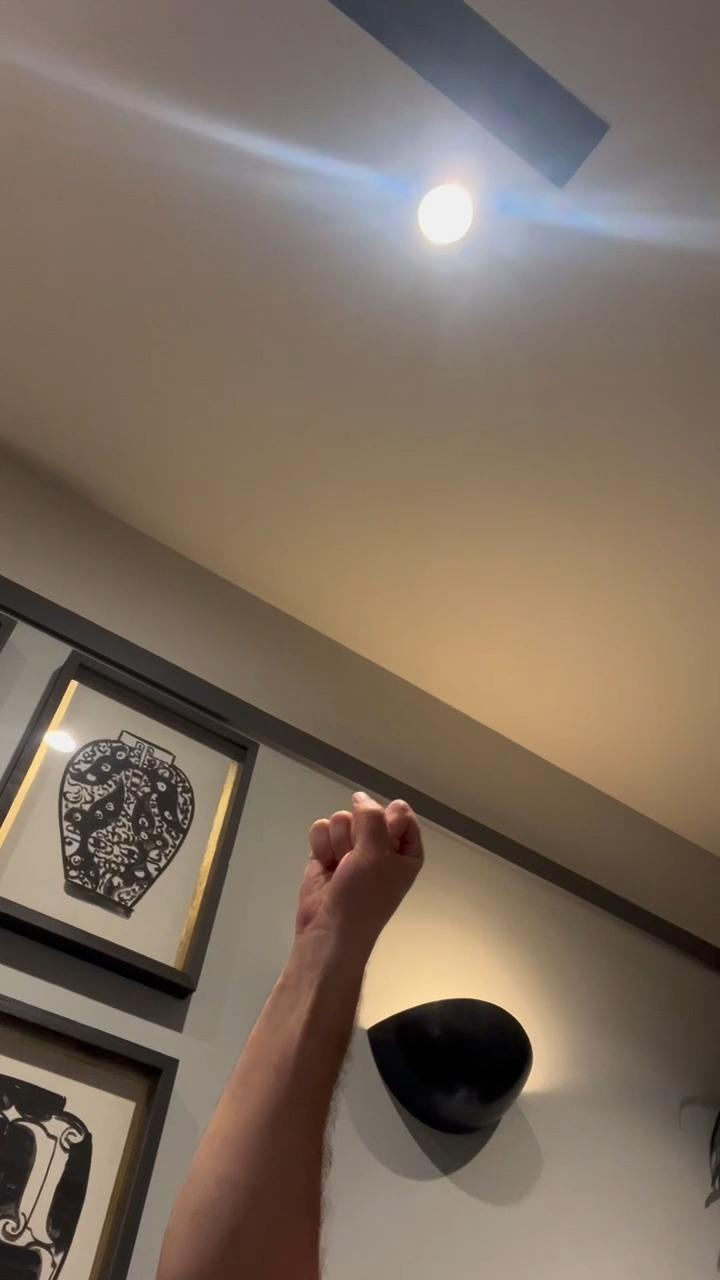Rock: (292, 792, 429, 931)
